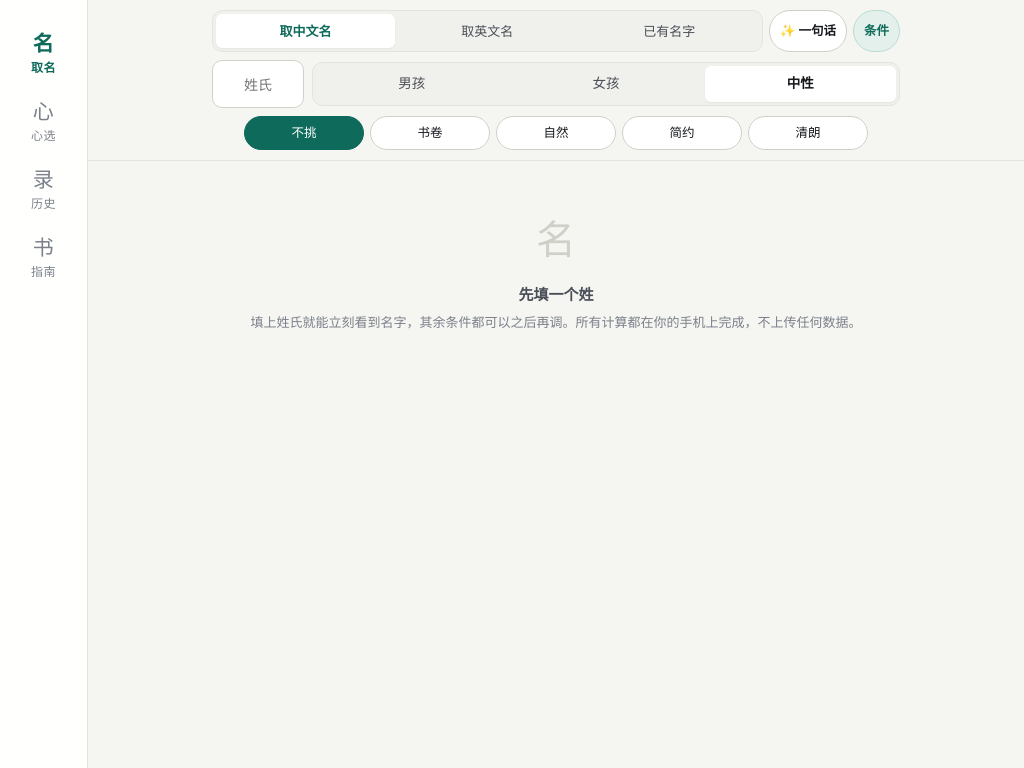
主流程 › 详情弹层给出逐字解释和评分依据
In the field named "宝宝的姓氏": (258, 84) top-left (212, 60), bottom-right (304, 108), type "林"
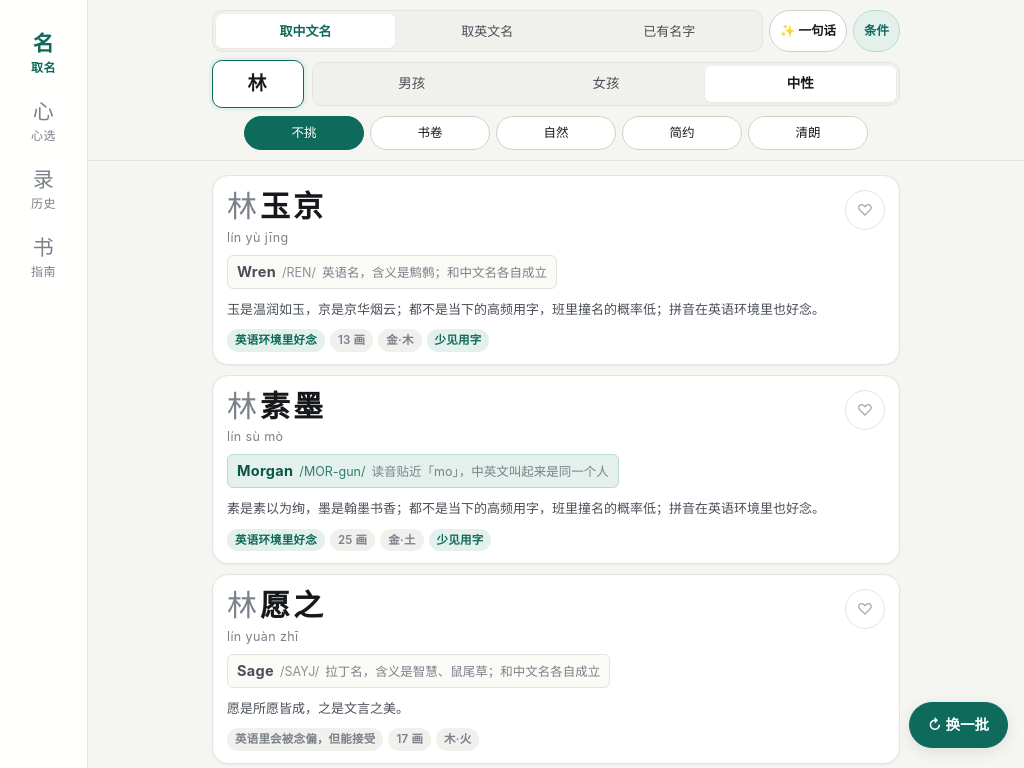
Click the button with aria-label "点开看详细解释": (556, 270) top-left (212, 175), bottom-right (900, 365)
(page scrolled)
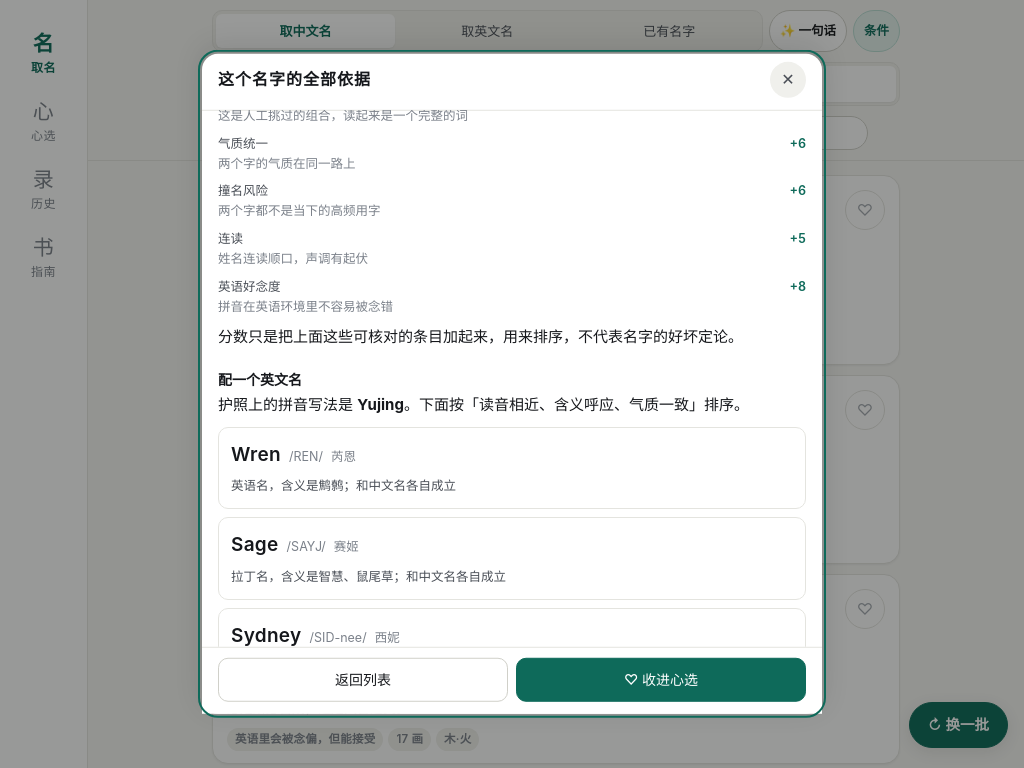
Result: the heading "配一个英文名" is shown at top-left (218, 370), bottom-right (302, 387)
